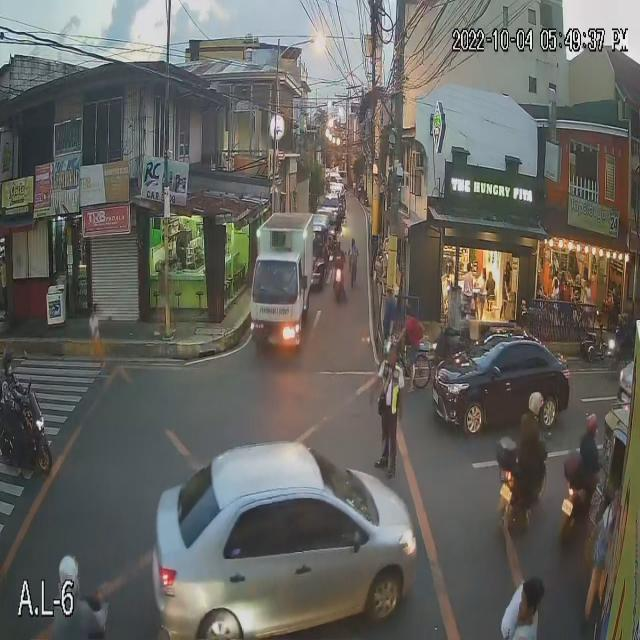helmet: (0, 348, 19, 375), (526, 390, 546, 415), (585, 415, 601, 436), (335, 238, 341, 252)
motorcycle: (492, 439, 554, 531), (2, 394, 50, 478), (558, 451, 604, 535), (604, 331, 634, 371), (326, 263, 350, 302)
rider: (514, 389, 552, 475), (0, 335, 28, 439), (570, 410, 604, 480), (332, 236, 344, 278)
